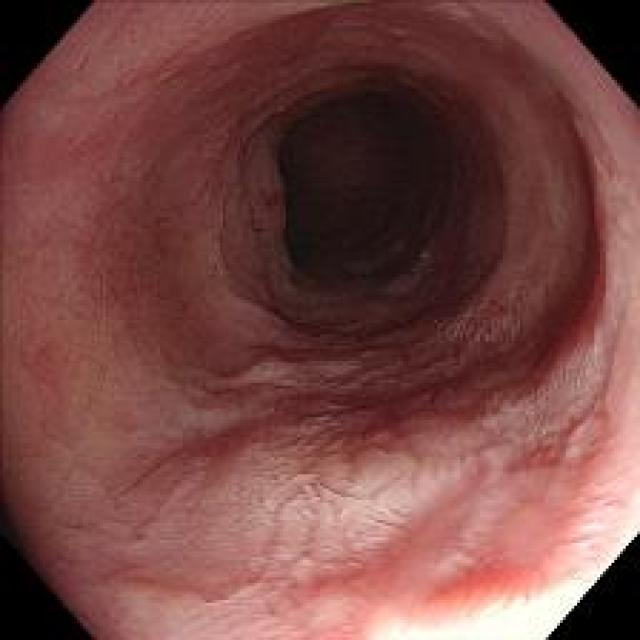blur: (302, 436, 610, 605)
contrast: (278, 68, 470, 286)
saturation: (370, 578, 592, 638)
